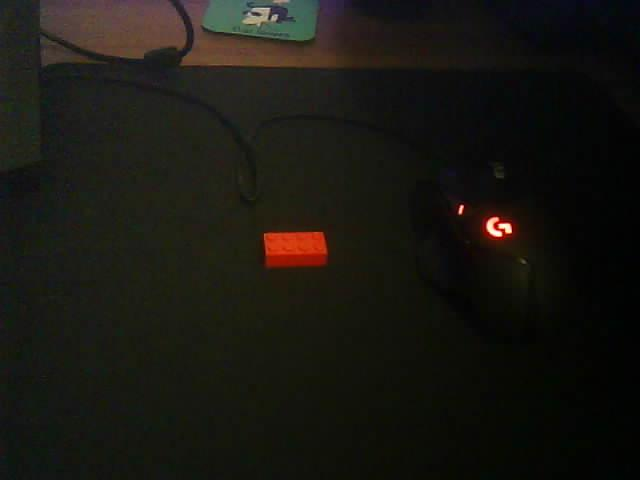lego: (262, 230, 329, 268)
